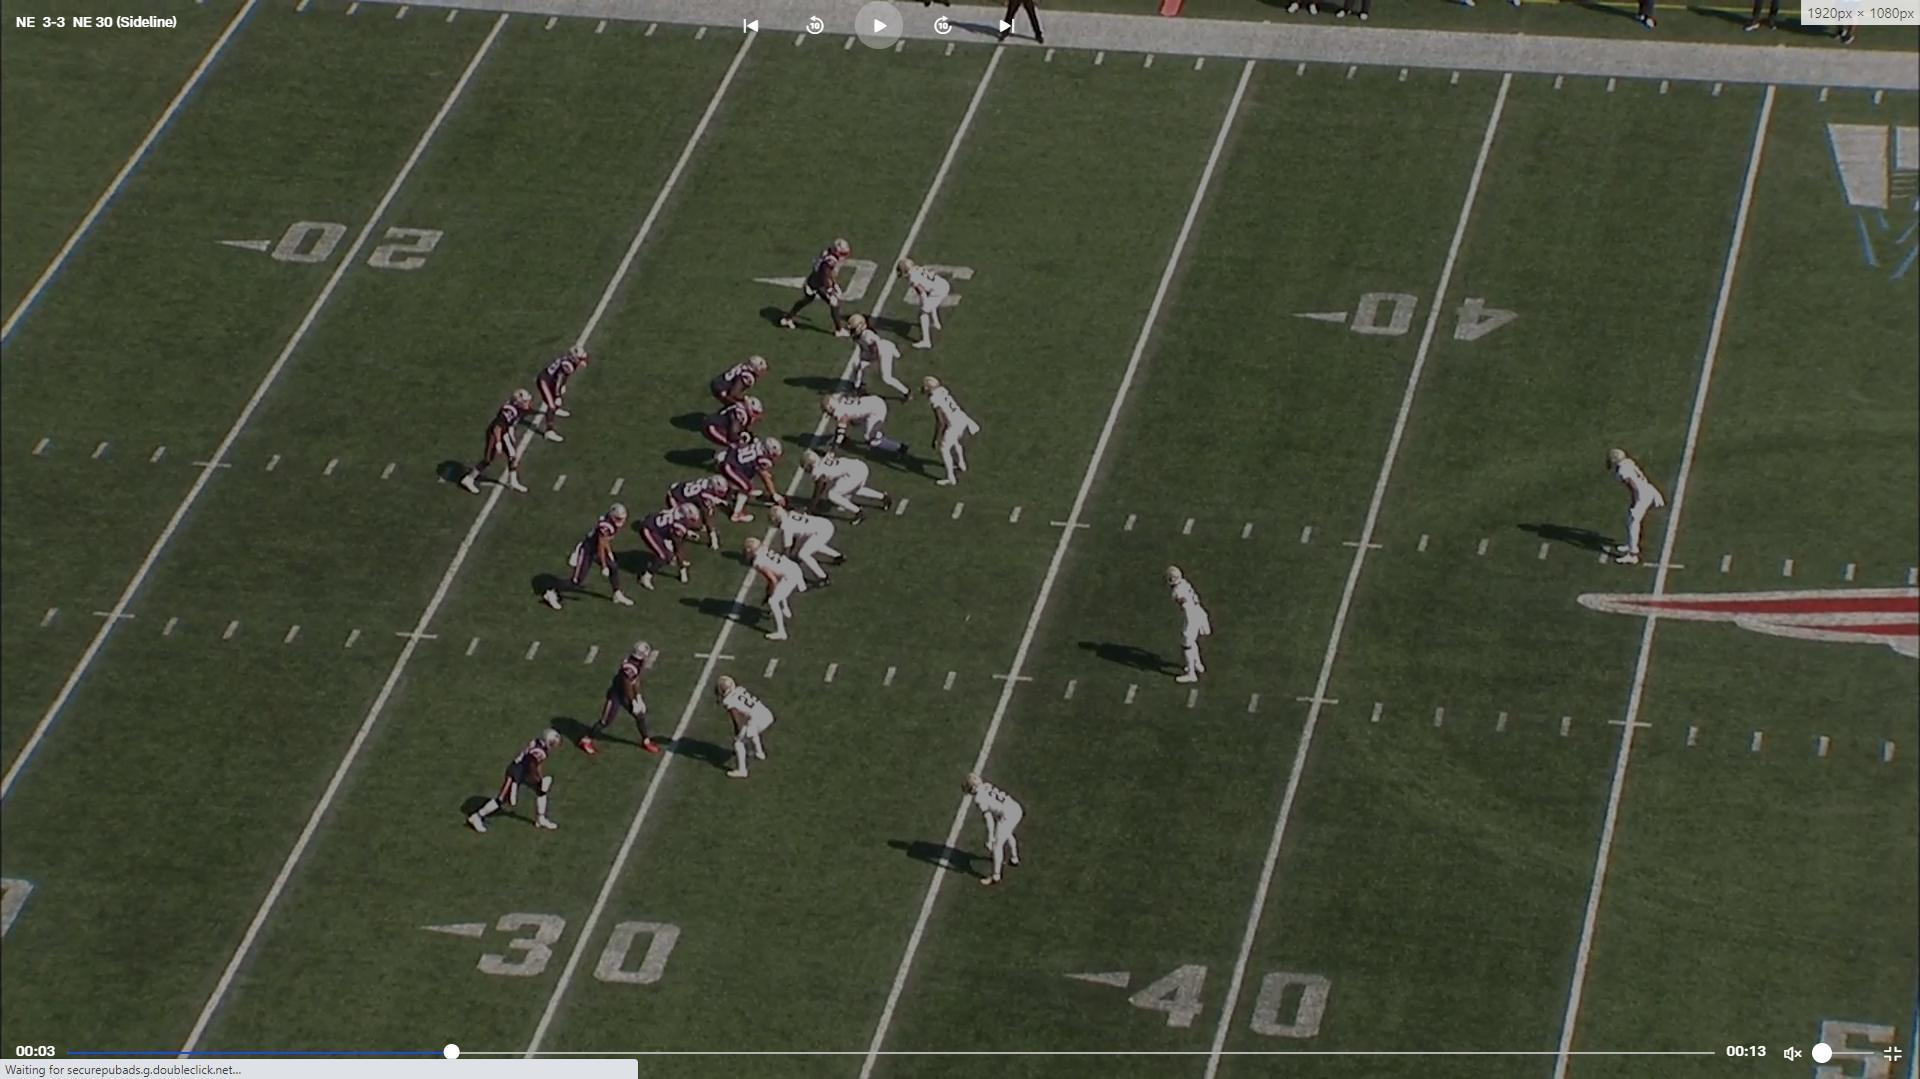defense: (961, 770, 1029, 898), (839, 309, 919, 402), (1602, 443, 1660, 570), (920, 375, 982, 492), (716, 671, 781, 784), (806, 446, 898, 524), (741, 537, 804, 646), (1163, 562, 1216, 689), (819, 390, 911, 460), (769, 507, 849, 586), (902, 260, 961, 355)
oline: (716, 437, 789, 525), (633, 501, 700, 588), (661, 472, 729, 550), (709, 355, 775, 423), (707, 396, 773, 463)
qb: (463, 384, 542, 500)
ref: (993, 0, 1059, 49)
skill: (467, 719, 571, 840), (580, 640, 670, 762), (537, 500, 632, 612), (782, 237, 861, 342), (531, 346, 592, 451)
